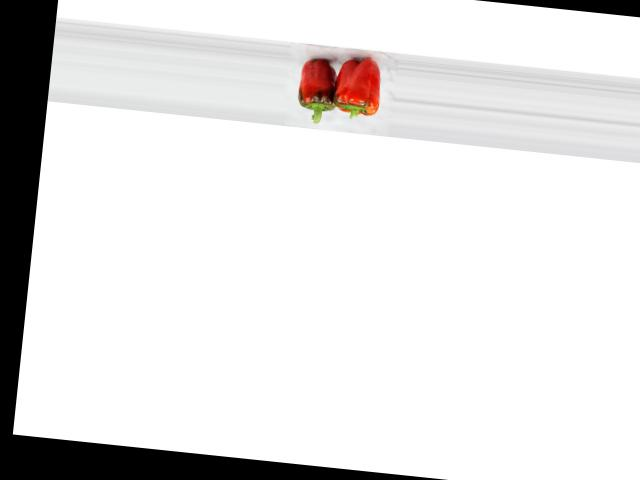bell_pepper: (332, 54, 391, 125)
